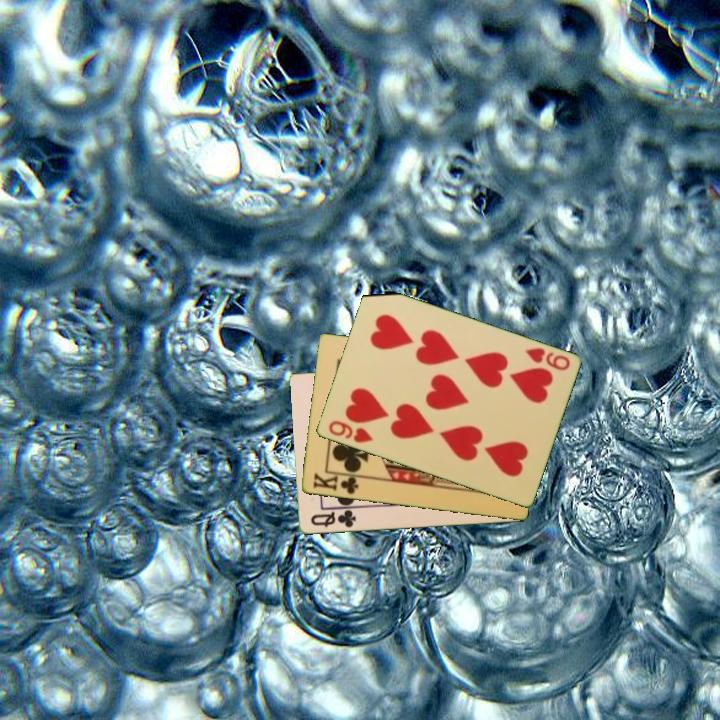9h: (521, 344, 573, 374), (325, 417, 376, 446)
Kc: (309, 469, 364, 497)
Qc: (307, 506, 358, 531)
